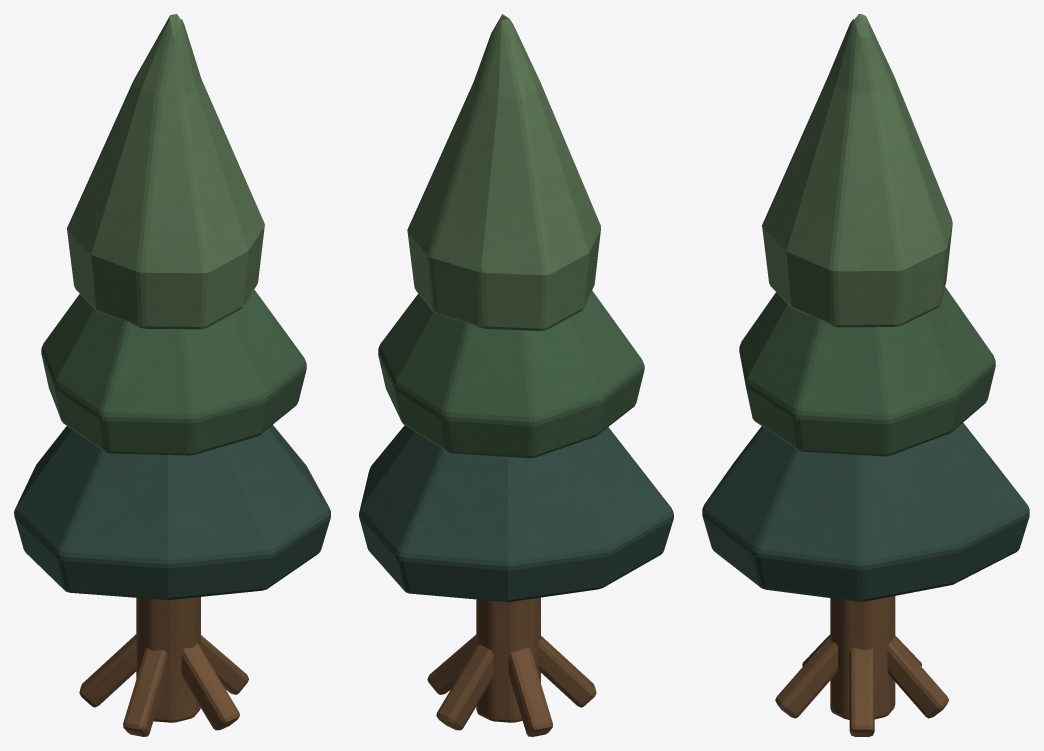
File: pine_tree.glb
The picture shows the model from 3 angles, left to right: view 1: azimuth 30°, elevation 25°; view 2: azimuth 150°, elevation 25°; view 3: azimuth 270°, elevation 25°; orthographic projection.
Visible parts, largest first — view 1: pine_tree_surface; view 2: pine_tree_surface; view 3: pine_tree_surface.
Boxes of the visible parts, x1,y1,x2,y2 form: pine_tree_surface: (14, 14, 330, 736); pine_tree_surface: (359, 14, 673, 736); pine_tree_surface: (702, 14, 1029, 736).
Bounding box in the file's own units: 0.8955 × 2.16 × 0.9182.
Materials: 1 (1 with a texture image).
